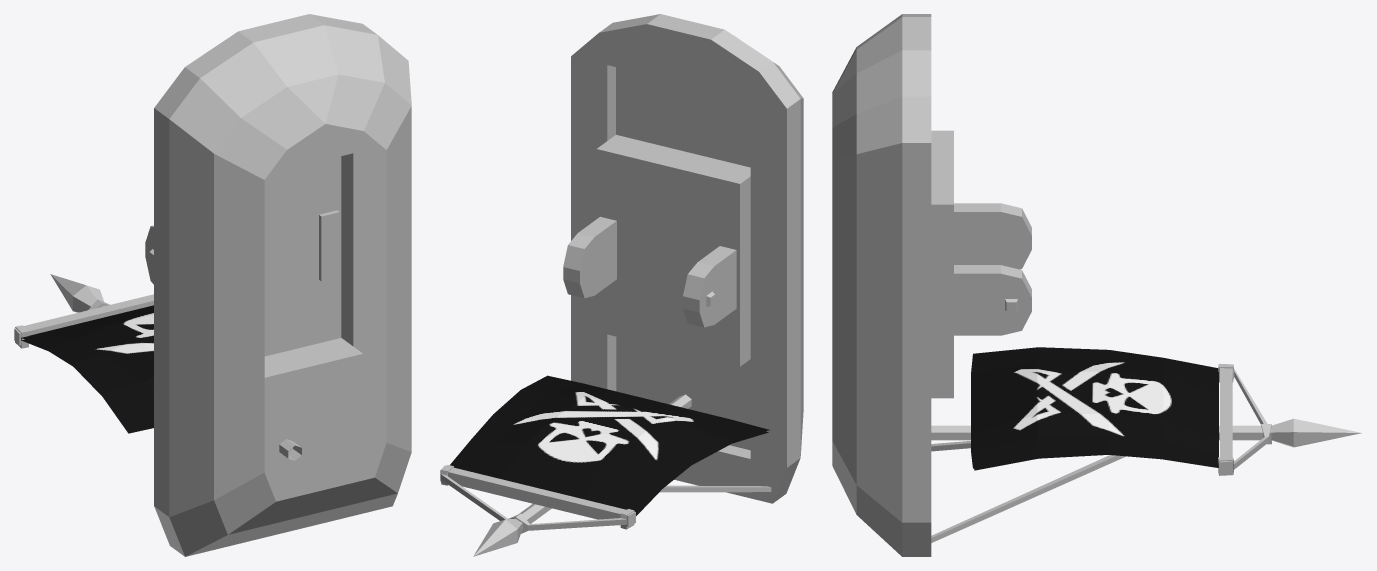
Rendered from pirate_cannon_my_ship_0.fbx.
3 views of the same model, side by side, from view 1: azimuth 30°, elevation 25°; view 2: azimuth 150°, elevation 25°; view 3: azimuth 270°, elevation 25° (orthographic). The views are drawn at different scales.
Visible parts, largest first — view 1: Cube.258; view 2: Cube.258; view 3: Cube.258.
Boxes of the visible parts, x1=… form: Cube.258: x1=14, y1=14, x2=411, y2=556; Cube.258: x1=440, y1=14, x2=803, y2=556; Cube.258: x1=832, y1=14, x2=1361, y2=556.
Bounding box in the file's own units: 215 × 414 × 419.
